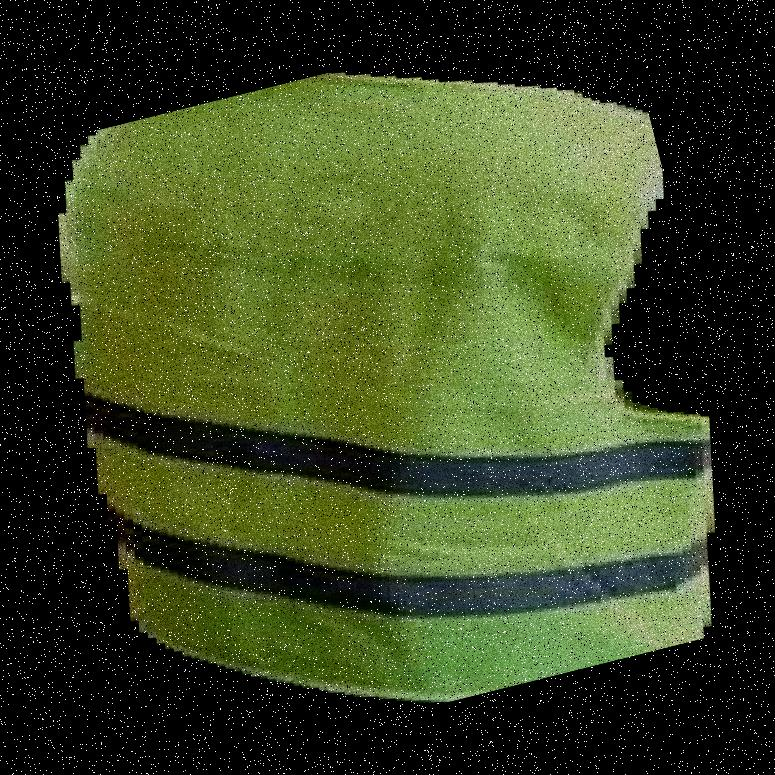Colete: (219, 0, 774, 774)
